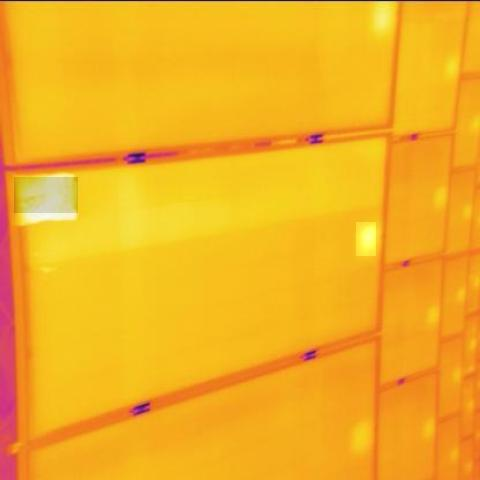fault: (14, 178, 78, 214), (356, 222, 376, 256)
